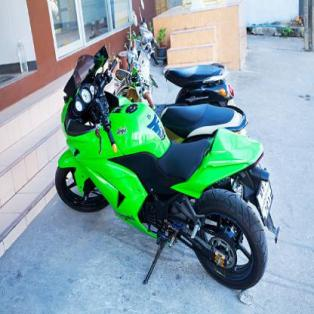Motocicleta: (46, 45, 271, 296)
